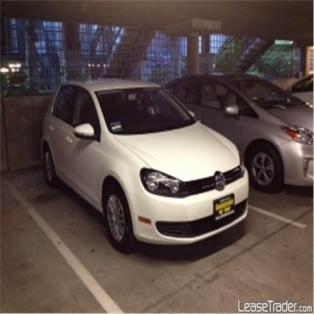Auto: (40, 77, 250, 256)
